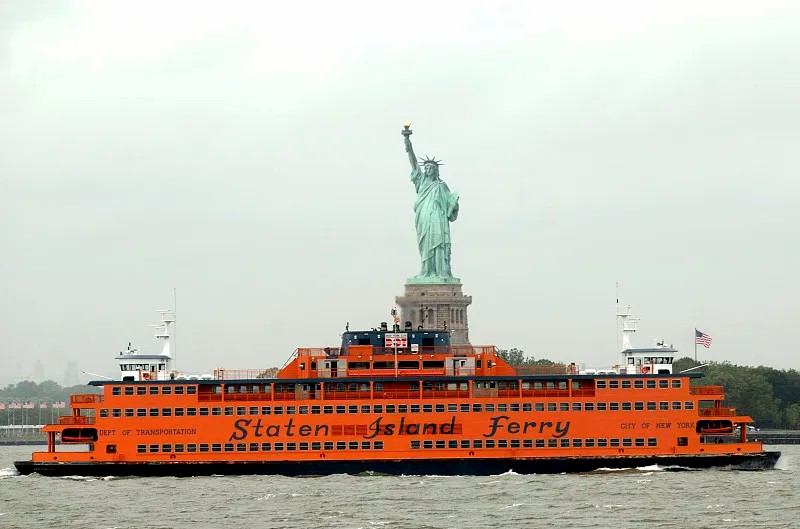SL: (396, 122, 473, 347)
